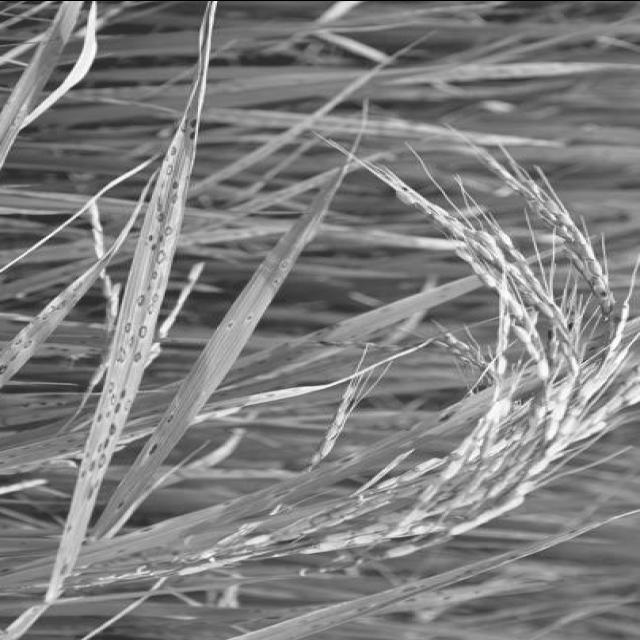Brown_Spot: (271, 252, 301, 290), (138, 290, 162, 314), (61, 555, 80, 581), (329, 318, 356, 336), (87, 476, 105, 502), (14, 332, 32, 356), (341, 451, 366, 468), (52, 292, 72, 312), (154, 248, 176, 266), (301, 614, 325, 630), (146, 228, 166, 246), (150, 436, 166, 458), (165, 407, 185, 424), (440, 406, 460, 423), (163, 222, 181, 240), (152, 200, 170, 218), (138, 522, 160, 536), (97, 451, 111, 470), (355, 602, 377, 614), (135, 350, 147, 370), (140, 323, 154, 339), (404, 586, 424, 596), (438, 590, 458, 600), (115, 400, 126, 418), (0, 362, 11, 379), (118, 497, 130, 511), (110, 422, 120, 438), (96, 412, 108, 424), (227, 320, 239, 332), (86, 450, 100, 460), (246, 312, 256, 326), (118, 546, 134, 554), (67, 524, 79, 534), (120, 392, 132, 402), (464, 568, 478, 576), (1, 458, 12, 468), (225, 501, 245, 506), (24, 444, 35, 452), (60, 448, 74, 454)
